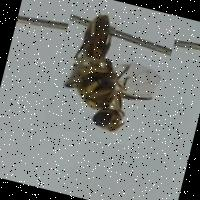Oriental-fruit-fly: (43, 0, 178, 151)
